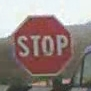stop: (10, 13, 74, 75)
